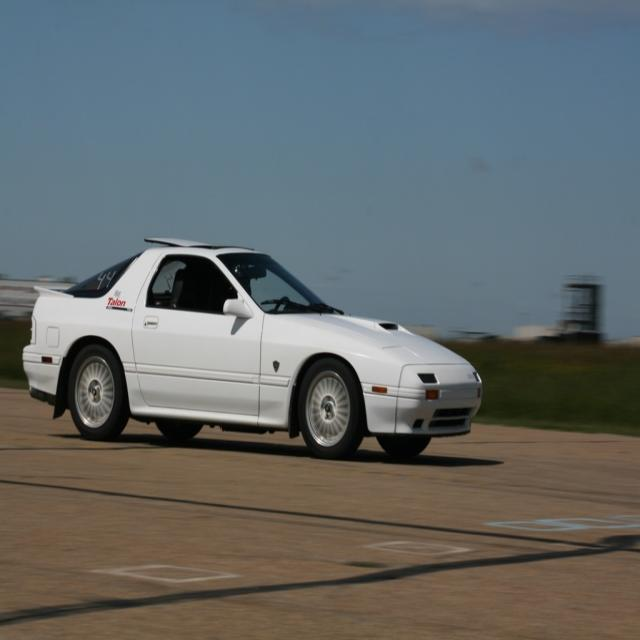car: (20, 235, 481, 458)
